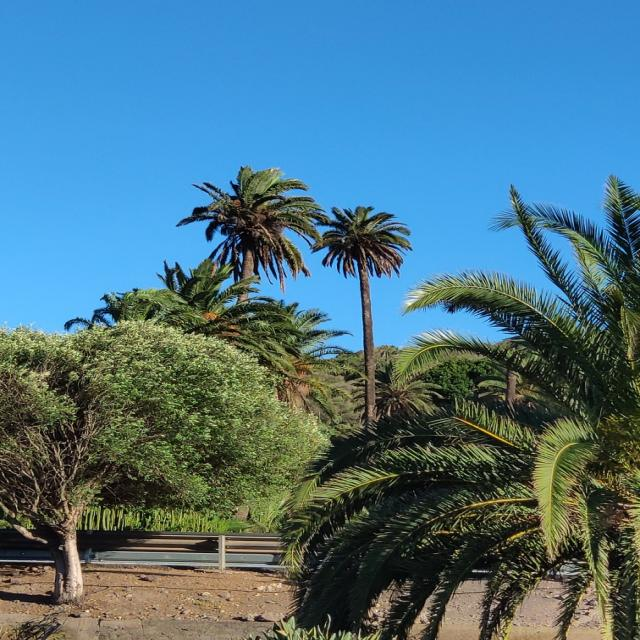Palm-Trees: (310, 205, 413, 435), (173, 164, 329, 314), (61, 290, 203, 333)
